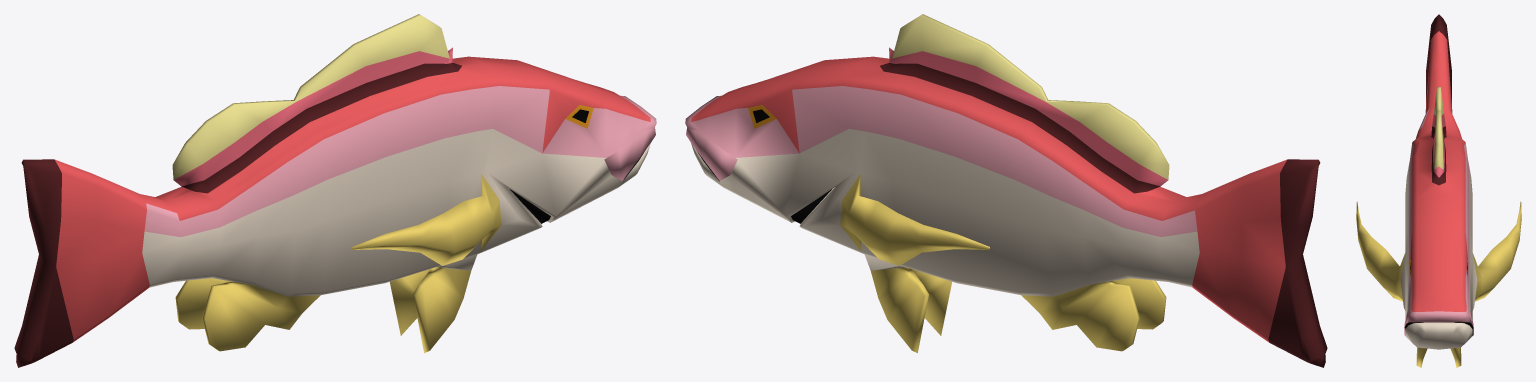
Rendered from fish.glb.
3 renders of one model, left to right at view 1: azimuth 30°, elevation 25°; view 2: azimuth 150°, elevation 25°; view 3: azimuth 270°, elevation 25°, orthographic. The views are drawn at different scales.
Visible parts, largest first — view 1: Cube.004; view 2: Cube.004; view 3: Cube.004.
Part boxes in pixels (<box>): Cube.004: <box>14,14,656,367</box>; Cube.004: <box>685,14,1327,367</box>; Cube.004: <box>1356,14,1521,367</box>.
Size of the model in its own units: 0.3965 by 0.1993 by 0.121.
